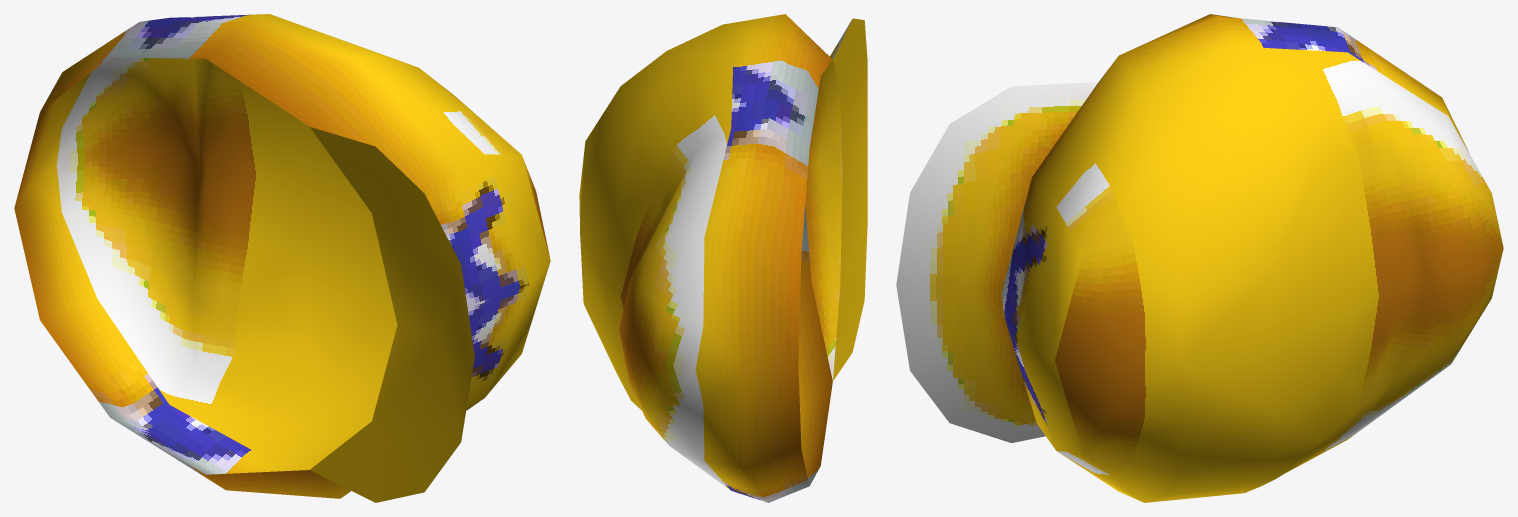
Rendered from cap_hat_wario.dae.
The picture shows the model from 3 angles, left to right: view 1: azimuth 30°, elevation 25°; view 2: azimuth 150°, elevation 25°; view 3: azimuth 270°, elevation 25°; orthographic projection. The views are drawn at different scales.
Parts seen in each view (by area): view 1: cap_hat_wario; view 2: cap_hat_wario; view 3: cap_hat_wario.
Part boxes in pixels (box(x1,y1,x2,y2)): cap_hat_wario: box(14, 14, 550, 502); cap_hat_wario: box(579, 14, 867, 502); cap_hat_wario: box(896, 14, 1503, 502).
Size of the model in its own units: 19.57 by 23.64 by 27.95.
Materials: 1 (1 with a texture image).
